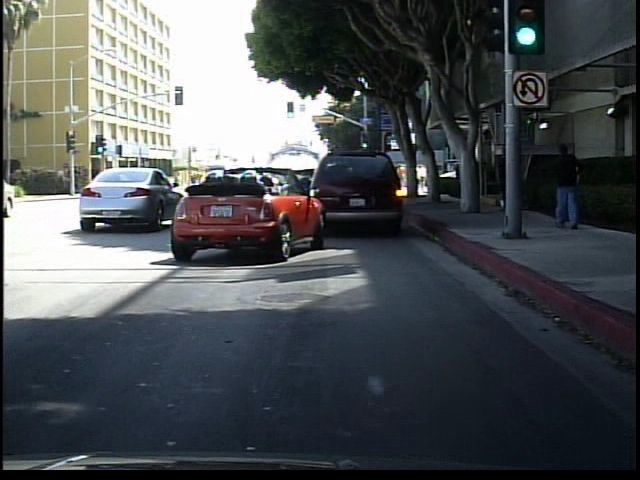person: (550, 136, 586, 234), (490, 142, 518, 216)
